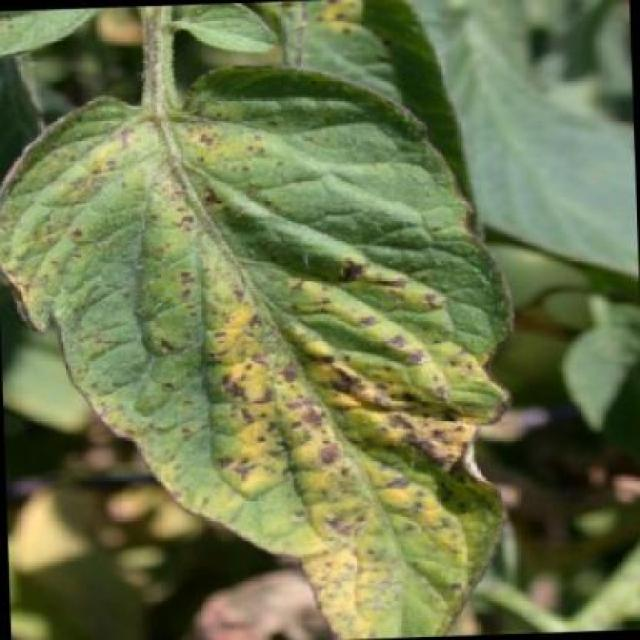Tomato leaf bacterial spot: (6, 34, 523, 640)
